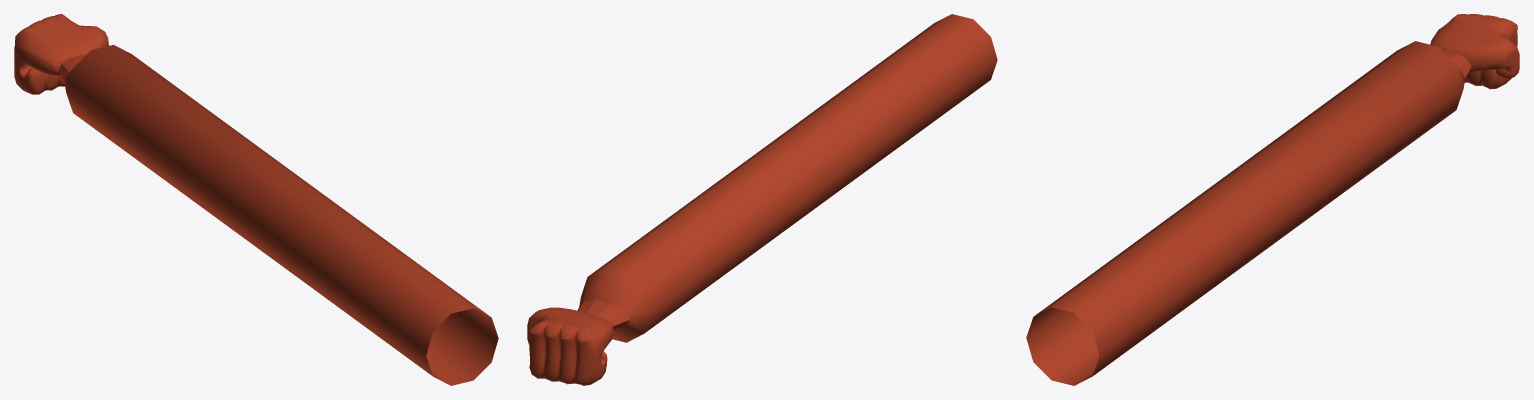
Rendered from hand_2.fbx.
3 views of the same model, side by side, from view 1: azimuth 30°, elevation 25°; view 2: azimuth 150°, elevation 25°; view 3: azimuth 330°, elevation 25° (orthographic). The views are drawn at different scales.
Visible parts, largest first — view 1: Box007; view 2: Box007; view 3: Box007.
Part boxes in pixels (box(x1,y1,x2,y2)): Box007: box(14, 14, 498, 385); Box007: box(527, 14, 997, 385); Box007: box(1026, 14, 1519, 385).
Bounding box in the file's own units: 0.8286 × 0.7084 × 7.47.
